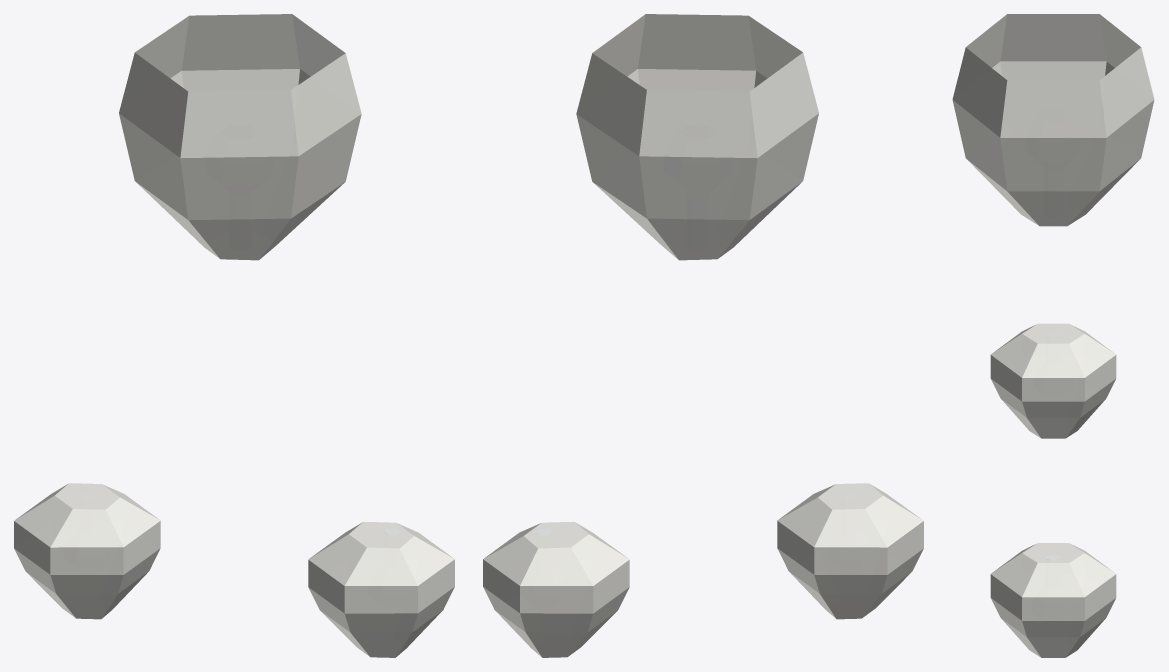
File: Poly_SF_Outside_B_Street_Light_02_Lamp.obj
3 renders of one model, left to right at view 1: azimuth 30°, elevation 25°; view 2: azimuth 150°, elevation 25°; view 3: azimuth 270°, elevation 25°, orthographic. The views are drawn at different scales.
Parts seen in each view (by area): view 1: Cube.002; view 2: Cube.002; view 3: Cube.002.
Boxes of the visible parts, left/top/right/bottom form: Cube.002: left=14, top=14, right=454, bottom=657; Cube.002: left=483, top=14, right=923, bottom=657; Cube.002: left=952, top=14, right=1154, bottom=657.
Size of the model in its own units: 0.8734 by 1.3 by 0.4374.
Materials: 2 (2 with a texture image).
